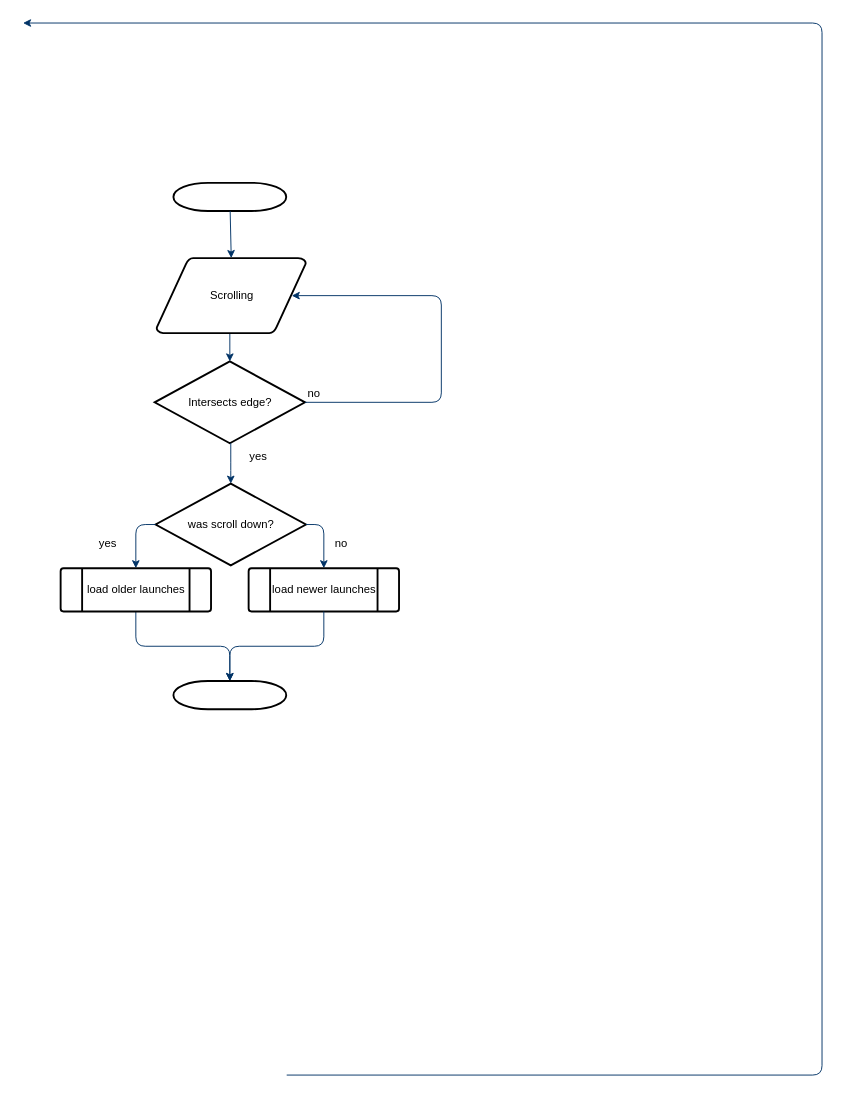
Some shapes in this 846 by 1100 pixel diagram are drawn without their labels. The shapes that lost their labels are listed below. From the top down, each one's centre as x and y in pixels, then its label:
At pixel 229 196: "start".
At pixel 229 695: "end".
